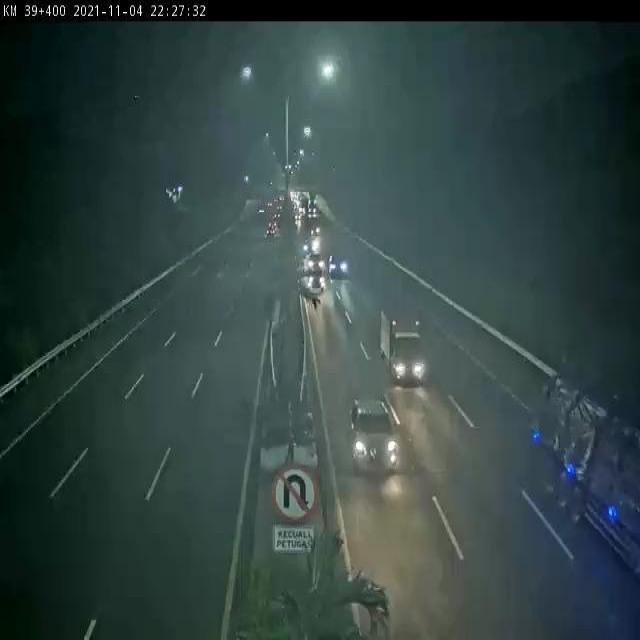car: (348, 394, 399, 474)
truck-s-: (381, 311, 426, 388)
truck-xl-: (532, 369, 640, 572)
